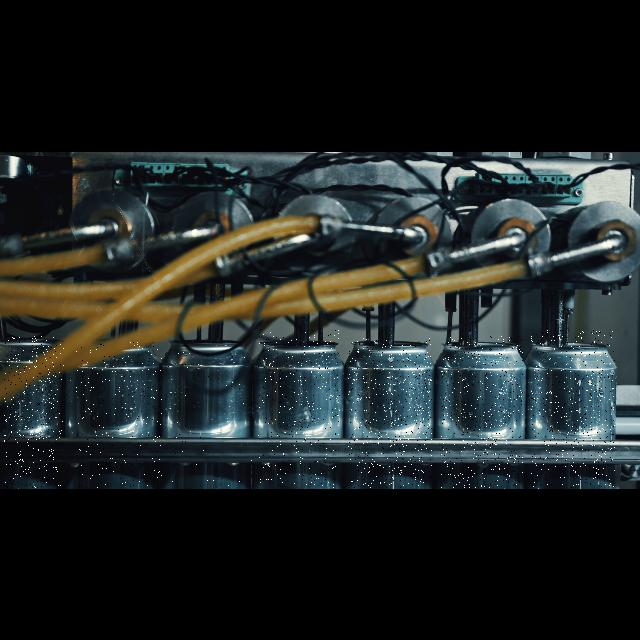empty: (531, 330, 615, 488), (258, 330, 340, 488), (168, 338, 252, 488), (348, 338, 432, 488), (76, 342, 162, 488), (441, 336, 523, 488), (4, 336, 64, 488)
